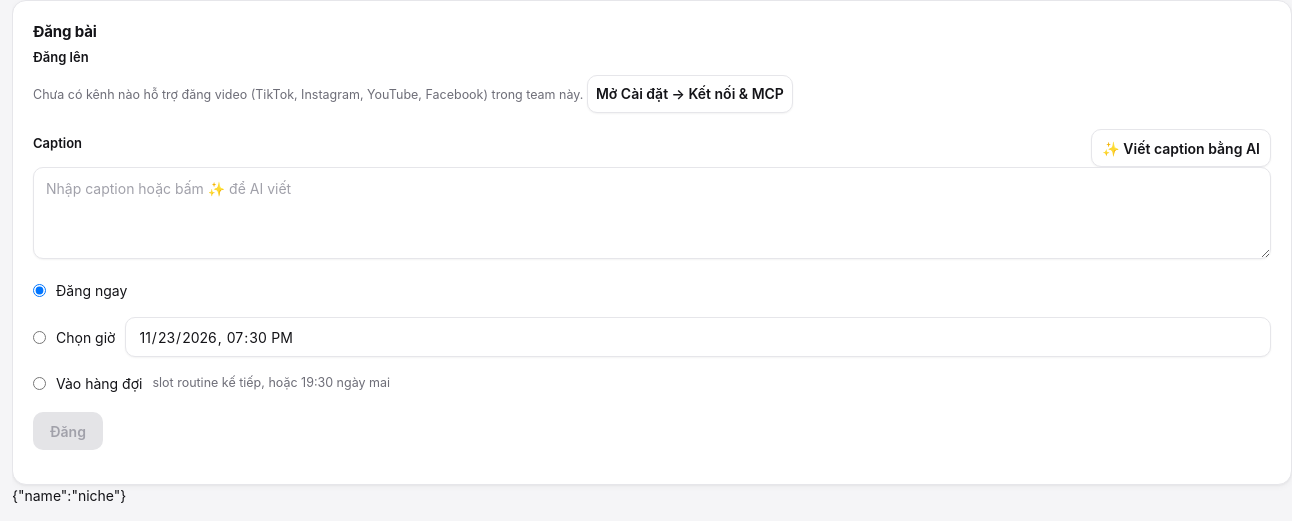
Test: a team with no supported channel says so
This screenshot has width=1292, height=521.
Expected: the text "Chưa có kênh nào hỗ trợ đăng video" is shown, [33,87,583,102]
Click the button "Mở Cài đặt → Kết nối & MCP": x=690, y=94 [587,75,793,113]
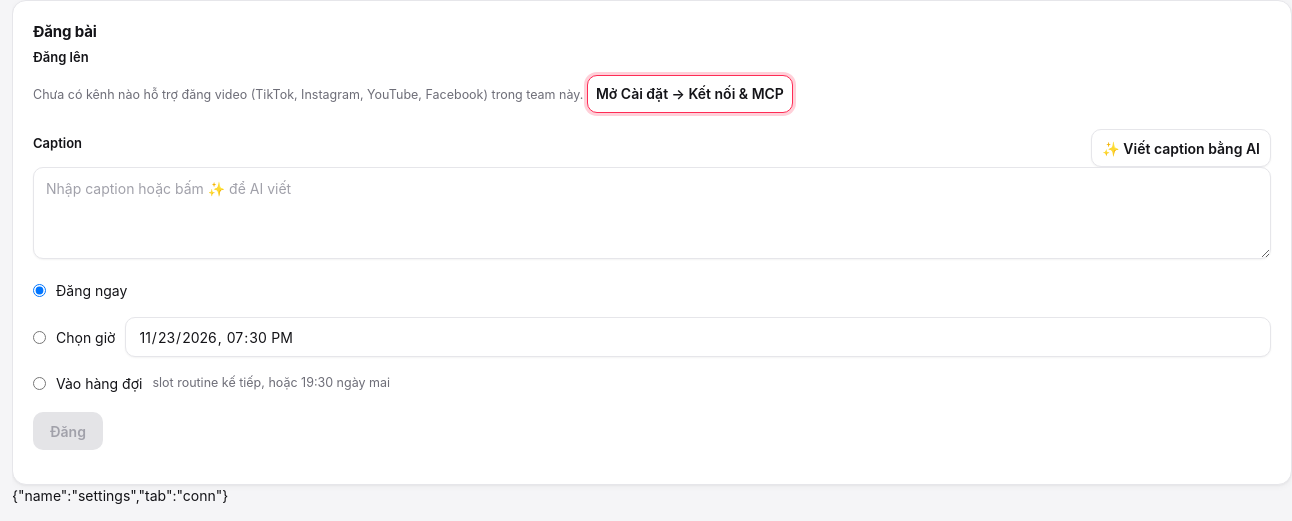
Result: the text with test id "route" shows "\"tab\":\"conn\"" at [12,487,228,504]
